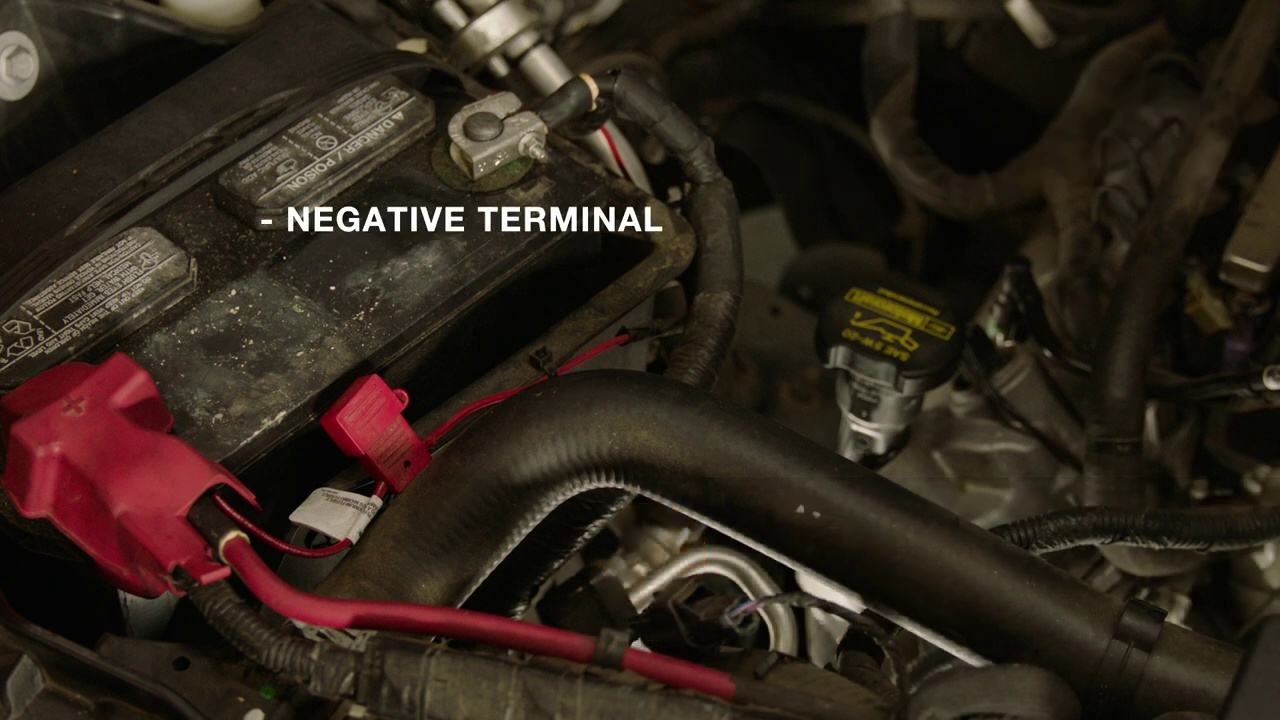battery: (17, 10, 596, 562)
neg_connected: (398, 78, 600, 186)
pos_connected: (18, 334, 208, 559)
